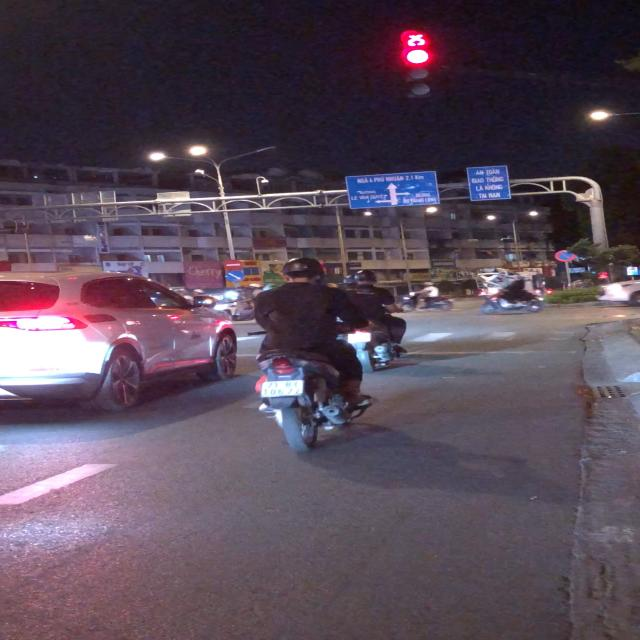Bien bao cam di nguoc chieu: (222, 258, 245, 270)
Bien bao cam do xe: (554, 249, 578, 262)
Bien bao huong phai di vong chuong ngai vat: (223, 269, 246, 282)
